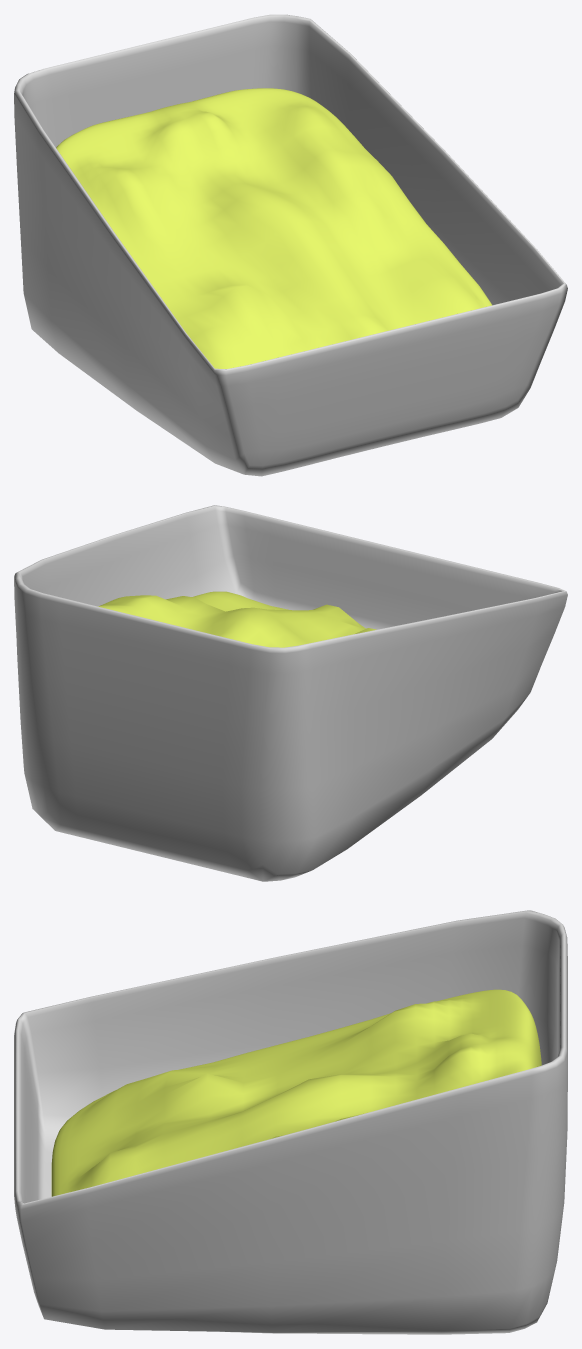
File: _ontainer.fbx
The picture shows the model from 3 angles, top to bottom: view 1: azimuth 30°, elevation 25°; view 2: azimuth 150°, elevation 25°; view 3: azimuth 270°, elevation 25°; orthographic projection. The views are drawn at different scales.
Visible parts, largest first — view 1: pCube1, pCube2; view 2: pCube1, pCube2; view 3: pCube1, pCube2.
Boxes of the visible parts, left/top/right/bottom form: pCube1: left=14, top=14, right=567, bottom=476; pCube2: left=56, top=88, right=491, bottom=368; pCube1: left=14, top=505, right=567, bottom=881; pCube2: left=98, top=591, right=376, bottom=647; pCube1: left=14, top=910, right=567, bottom=1334; pCube2: left=51, top=989, right=541, bottom=1196.
Bounding box in the file's own units: 11.75 × 7.83 × 14.29.
